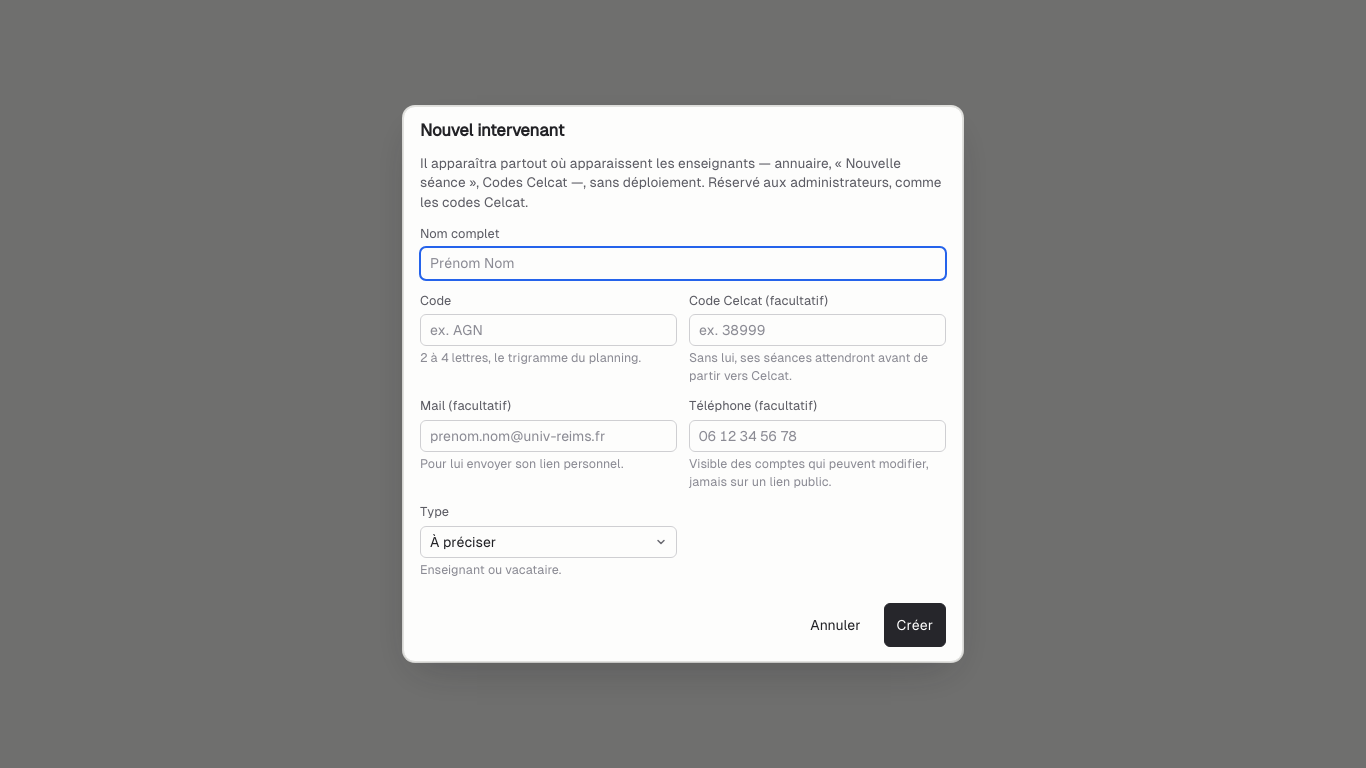
Test: NouvelIntervenantModal › un refus à avertissements (vérification pas encore arrivée) les affiche et demande confirmation
Type "Anne Grenet" into the field labelled "Nom complet" at (683, 263), box [420,247,946,280]
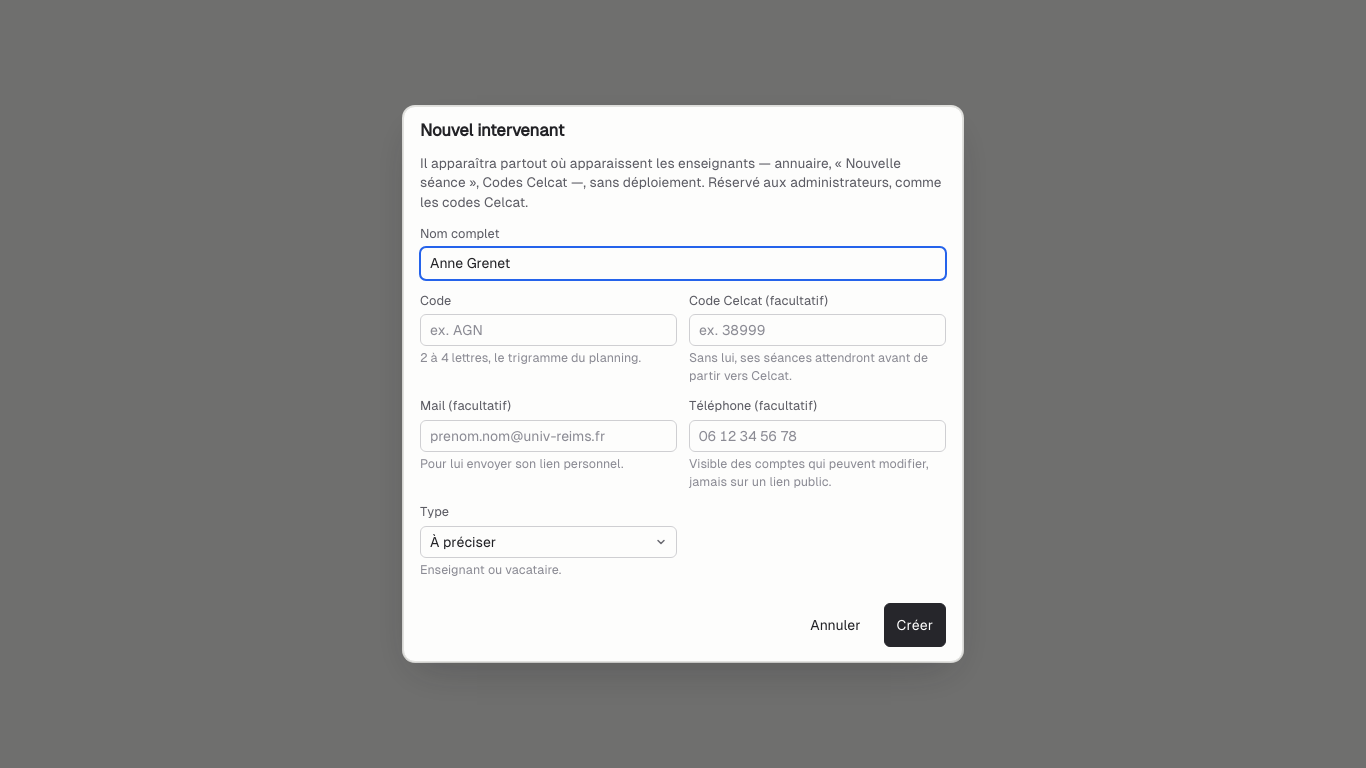
Type "AGN" into the field labelled "Code" at (548, 330), box [420,314,677,346]
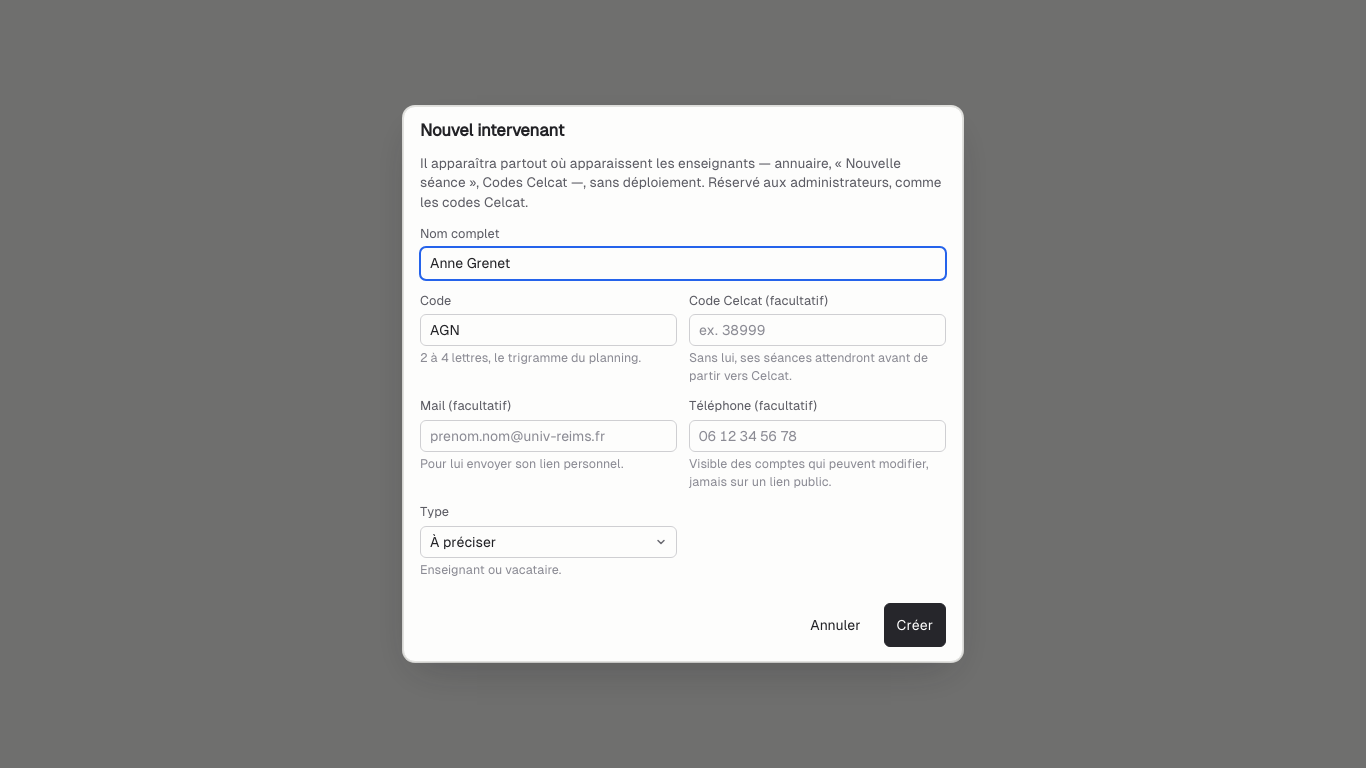
Click the button "Créer" at (915, 625), box [884,603,946,647]
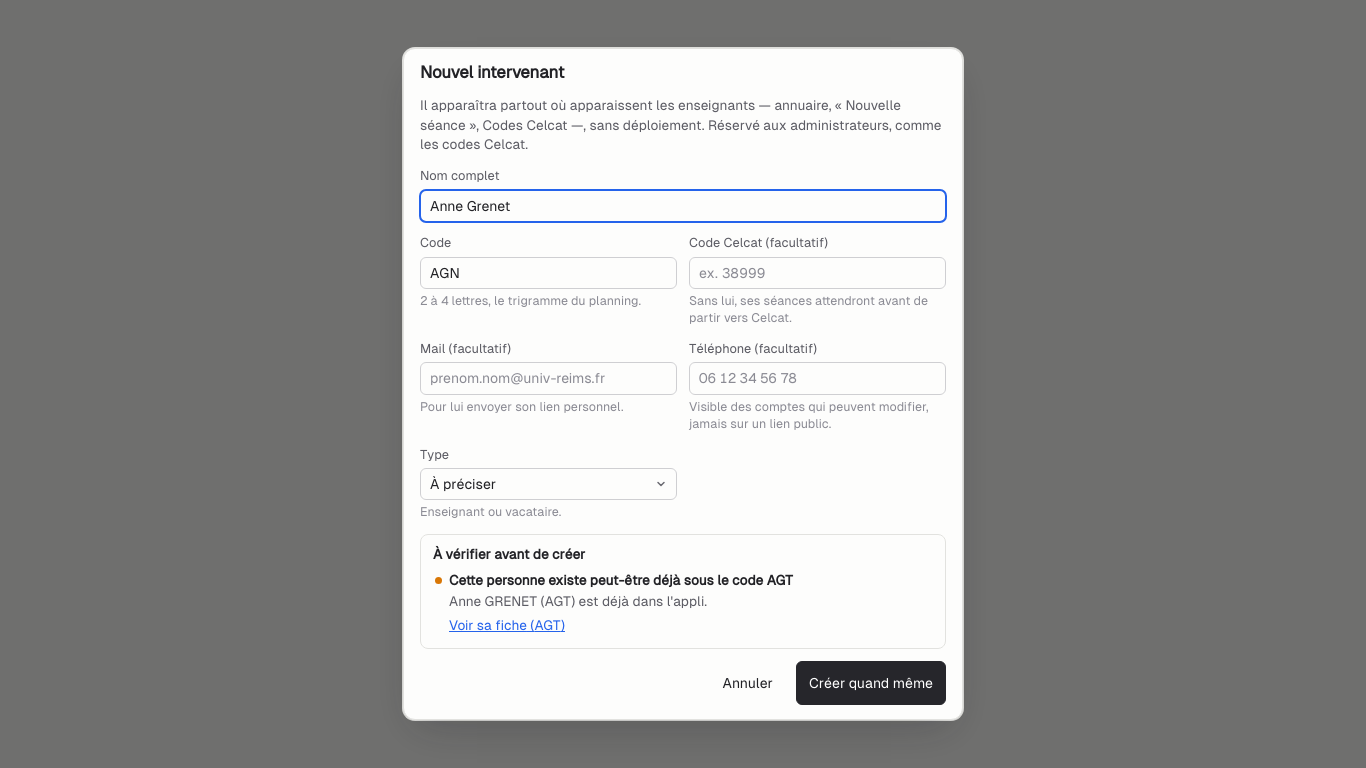
Expected: the button "Créer quand même" is enabled, [796,661,946,705]
Expected: the text "Cette personne existe peut-être déjà sous le code AGT" is shown, [449,572,793,588]
